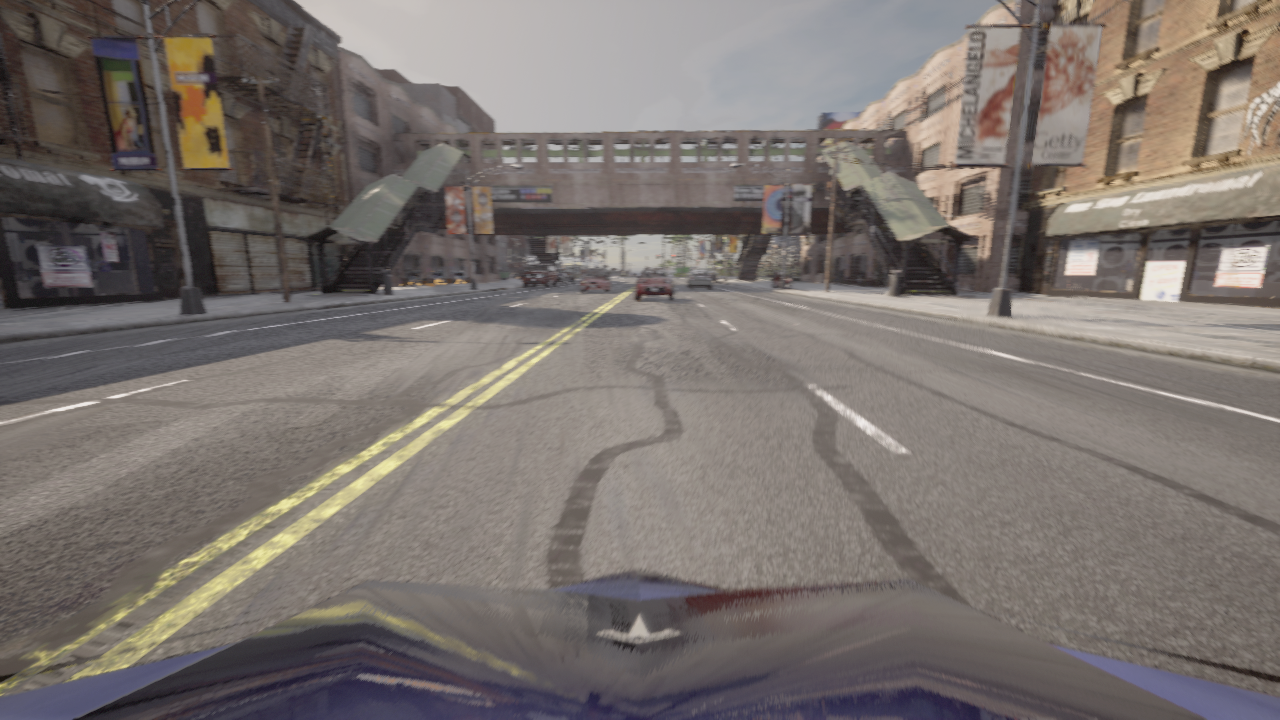cyclist: (0, 569, 1279, 719), (635, 267, 673, 300), (522, 264, 557, 287), (579, 269, 609, 292), (686, 270, 711, 288), (772, 271, 791, 289), (551, 272, 569, 285), (708, 271, 717, 283), (566, 274, 575, 282), (510, 272, 516, 277), (562, 270, 565, 271)
